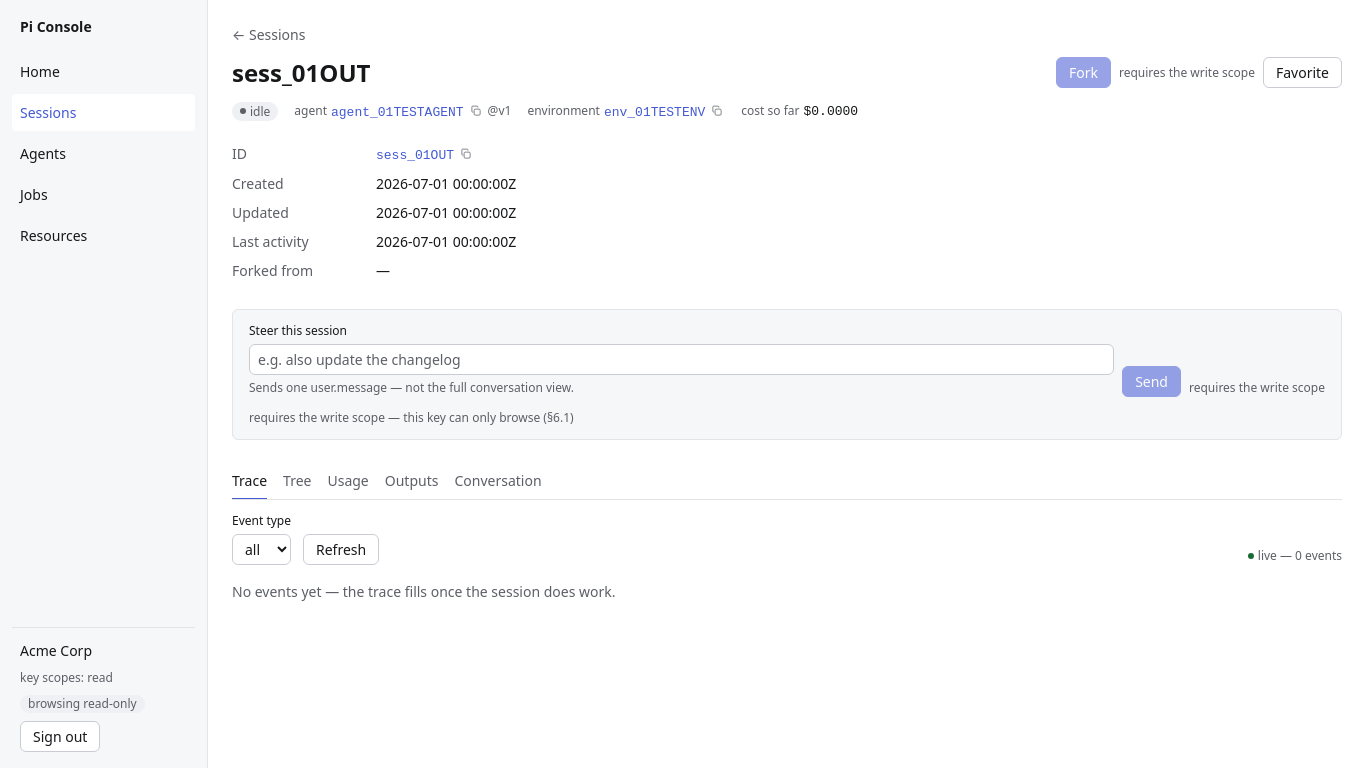
Test: output files list › no outputs → the teaching empty state (DP-5/DP-6)
This screenshot has width=1366, height=768.
Expected: the element named "Session detail" is shown, [232,464,1342,500]
Click the tab "Outputs" at (412, 482), box [385,464,438,500]
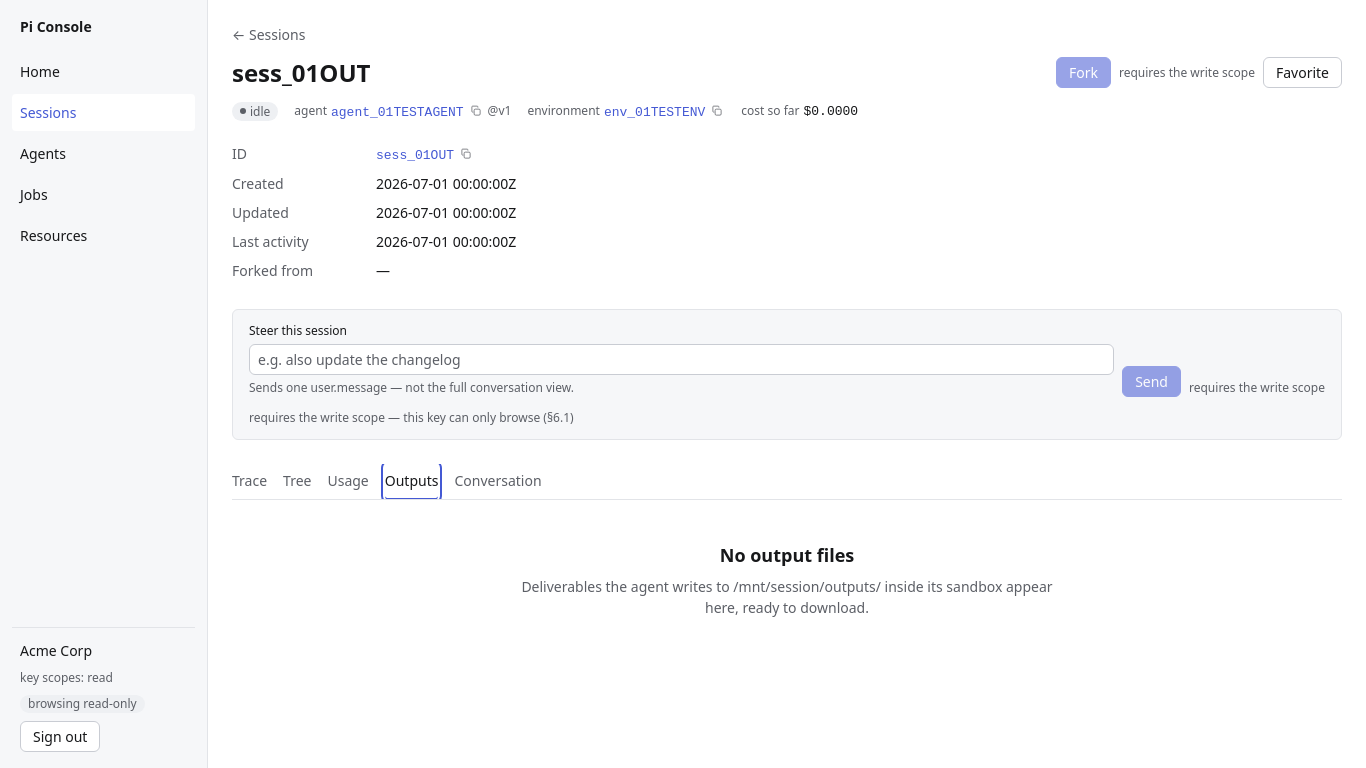
Result: the heading "No output files" is shown at [720,544,854,568]
Result: the text "/mnt/session/outputs/" is shown at [521,577,1053,617]
